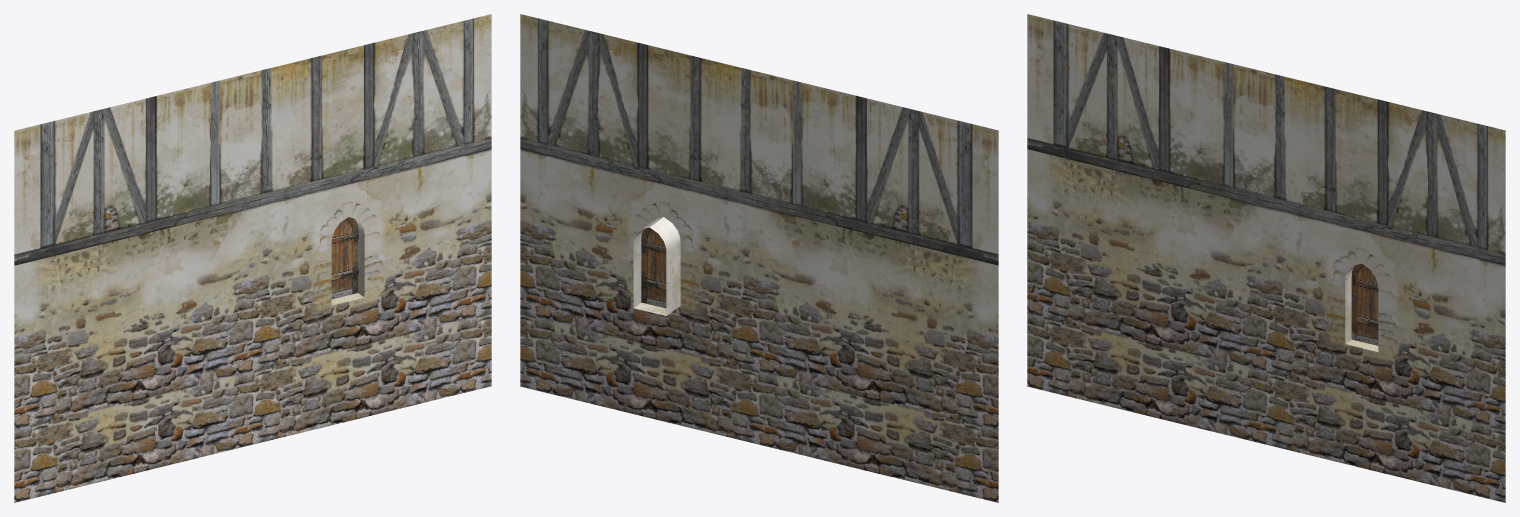
Rendered from башня.fbx.
The picture shows the model from 3 angles, left to right: view 1: azimuth 30°, elevation 25°; view 2: azimuth 150°, elevation 25°; view 3: azimuth 330°, elevation 25°; orthographic projection.
Parts seen in each view (by area): view 1: Rectangle001, Dver003; view 2: Rectangle001, Dver003; view 3: Rectangle001, Dver003.
Part boxes in pixels (x1,y1,x2,y2): Rectangle001: (14, 14, 491, 502); Dver003: (331, 217, 358, 299); Rectangle001: (520, 14, 998, 502); Dver003: (641, 227, 666, 308); Rectangle001: (1027, 14, 1505, 502); Dver003: (1351, 263, 1378, 345).
Size of the model in its own units: 13.91 by 0.7267 by 10.36.
